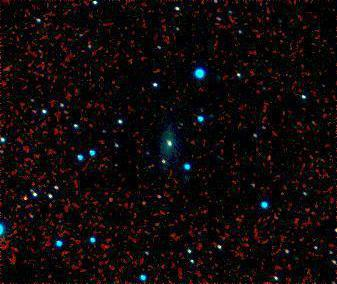star: (11, 183, 41, 213)
